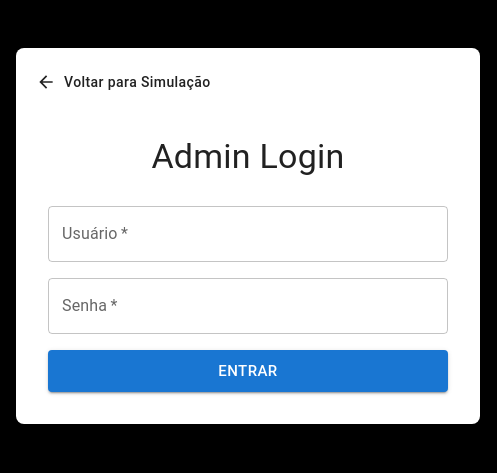
Test: LoginPage › deve exibir mensagem de erro com credenciais incorretas
Type "admin" into the field labelled "Usuário *" at (248, 234), box [48, 206, 448, 262]
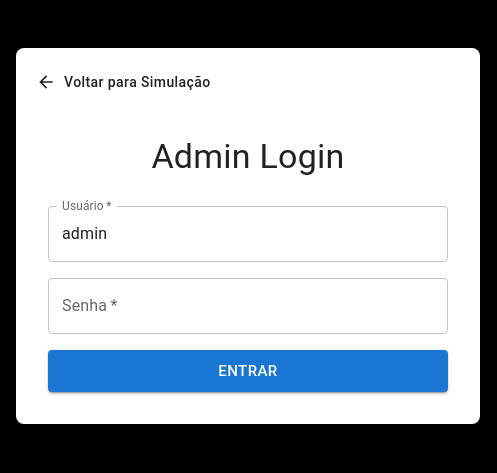
Type "senhaerrada" into the password field labelled "Senha *" at (248, 306), box [48, 278, 448, 334]
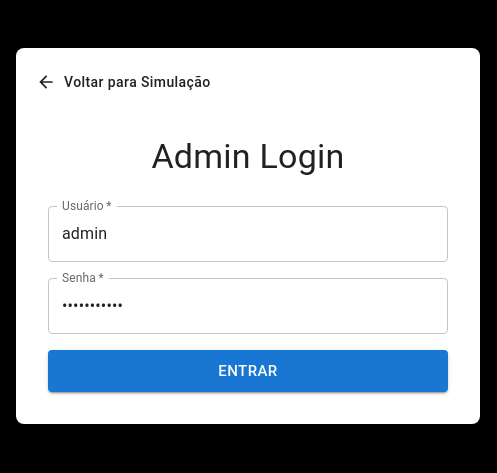
Click the button "Entrar" at (248, 371), box [48, 350, 448, 392]
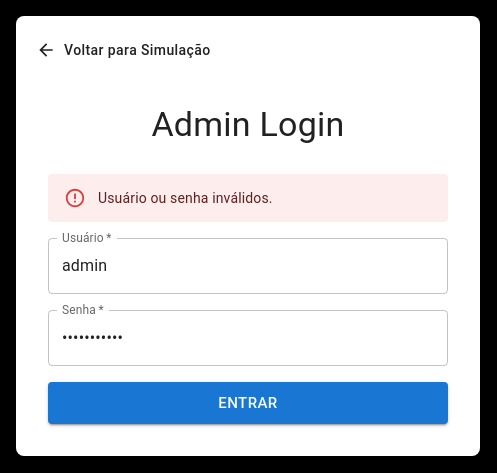
Now the text "Usuário ou senha inválidos." is shown, box [98, 190, 273, 206]
